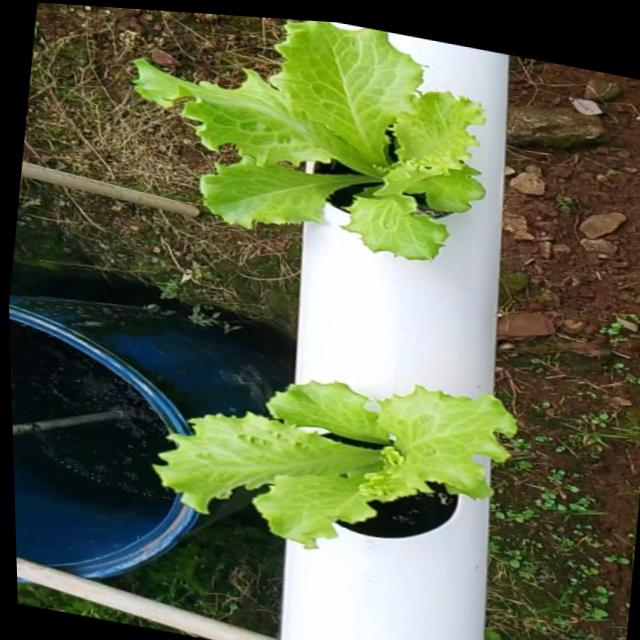Baby: (124, 24, 478, 266), (133, 379, 504, 552)
